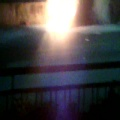fire: (43, 0, 77, 38)
